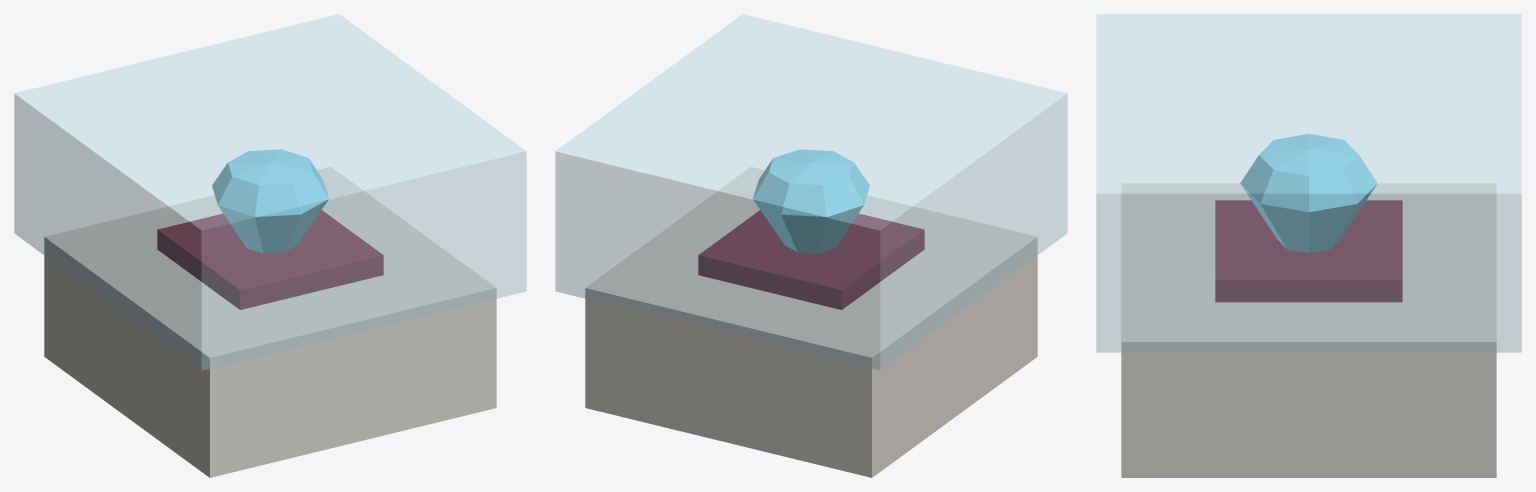
File: loot_vitrine.glb
3 views of the same model, side by side, from view 1: azimuth 30°, elevation 25°; view 2: azimuth 150°, elevation 25°; view 3: azimuth 270°, elevation 25° (orthographic). The views are drawn at different scales.
Parts seen in each view (by area): view 1: glass, stand, jewel; view 2: glass, stand, jewel; view 3: glass, stand, jewel.
Part boxes in pixels (x1=…): glass: x1=14, y1=14, x2=526, y2=370; stand: x1=44, y1=167, x2=496, y2=477; jewel: x1=212, y1=149, x2=328, y2=253; glass: x1=555, y1=14, x2=1067, y2=370; stand: x1=585, y1=167, x2=1037, y2=477; jewel: x1=753, y1=149, x2=869, y2=253; glass: x1=1096, y1=14, x2=1521, y2=352; stand: x1=1121, y1=183, x2=1496, y2=477; jewel: x1=1240, y1=134, x2=1377, y2=252.
Size of the model in its own units: 0.34 by 0.26 by 0.34.
2 materials, 1 textured.
